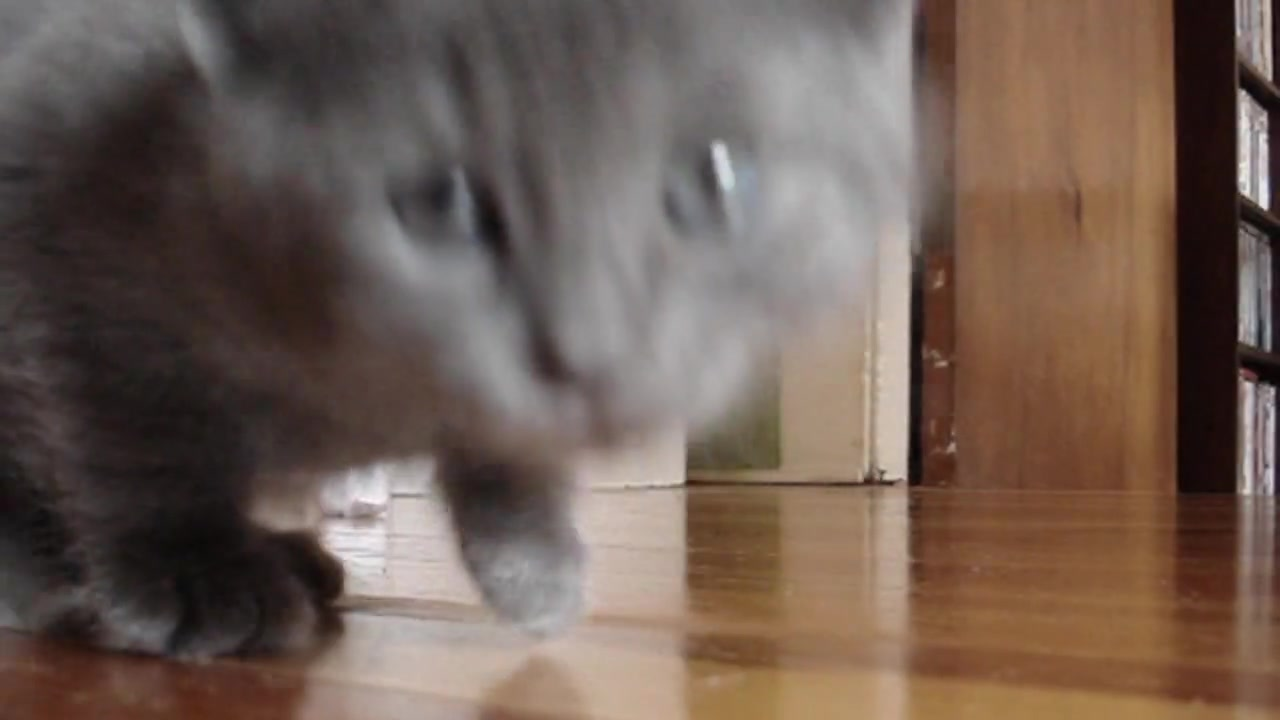cat: (1, 2, 918, 662)
